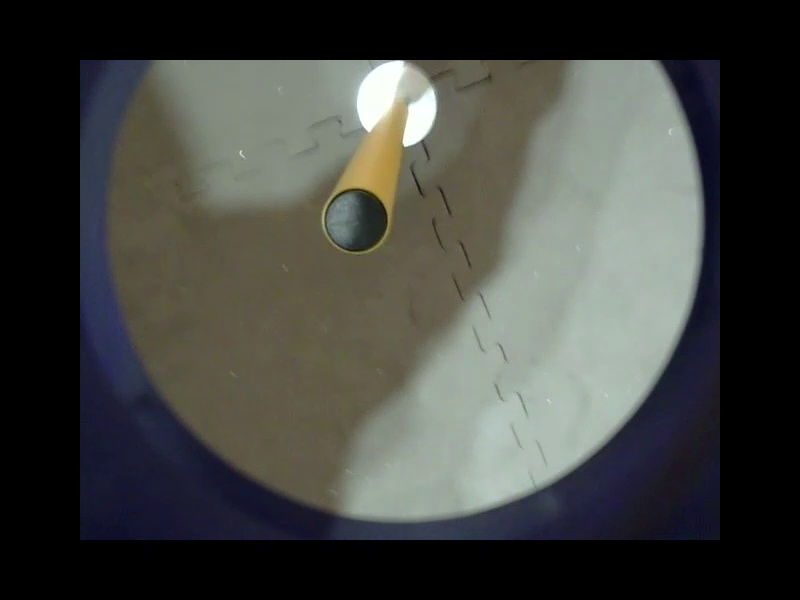tip: (318, 178, 395, 258)
